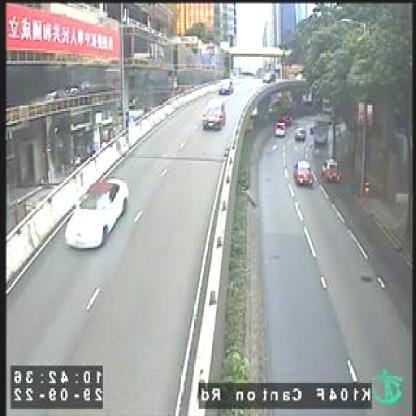Car: (58, 175, 134, 248), (200, 99, 228, 132), (321, 154, 343, 187), (294, 158, 314, 190), (217, 76, 235, 96), (272, 122, 287, 140), (294, 126, 308, 144)
